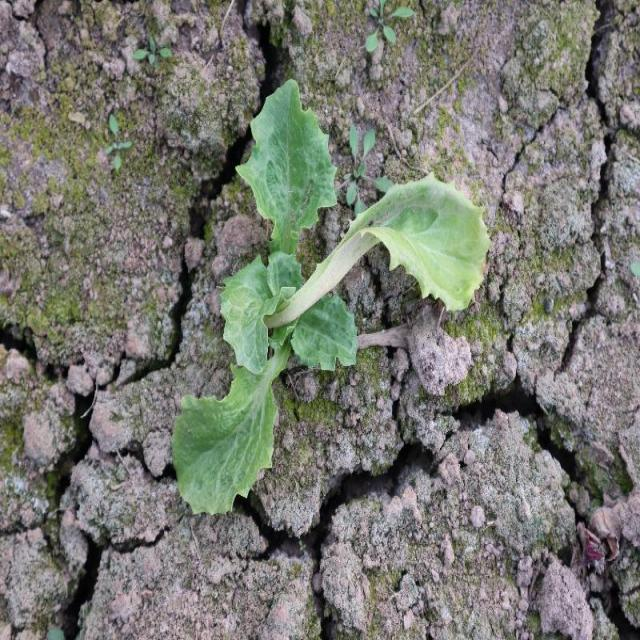crop: (170, 80, 362, 514)
